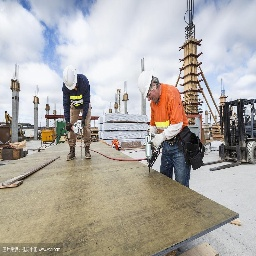helmet: (136, 70, 155, 101), (62, 66, 79, 93)
person: (137, 70, 196, 188), (61, 63, 93, 168)
